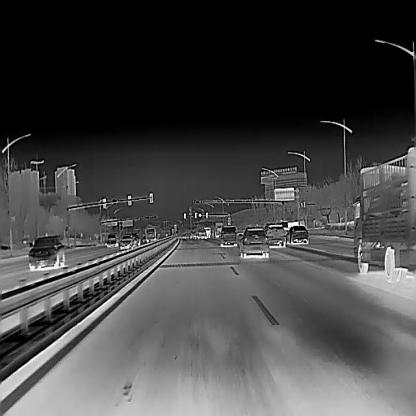car: (28, 233, 65, 268), (238, 224, 268, 258), (264, 223, 286, 247), (220, 223, 236, 247), (287, 224, 308, 242), (119, 232, 136, 248), (106, 232, 118, 247), (198, 229, 206, 238)
truck: (354, 145, 416, 283), (144, 227, 160, 242)
